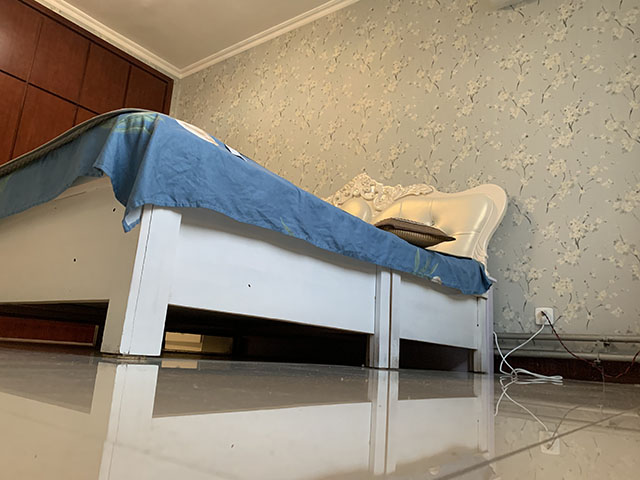bed: (1, 107, 510, 375)
wire: (493, 310, 640, 383)
